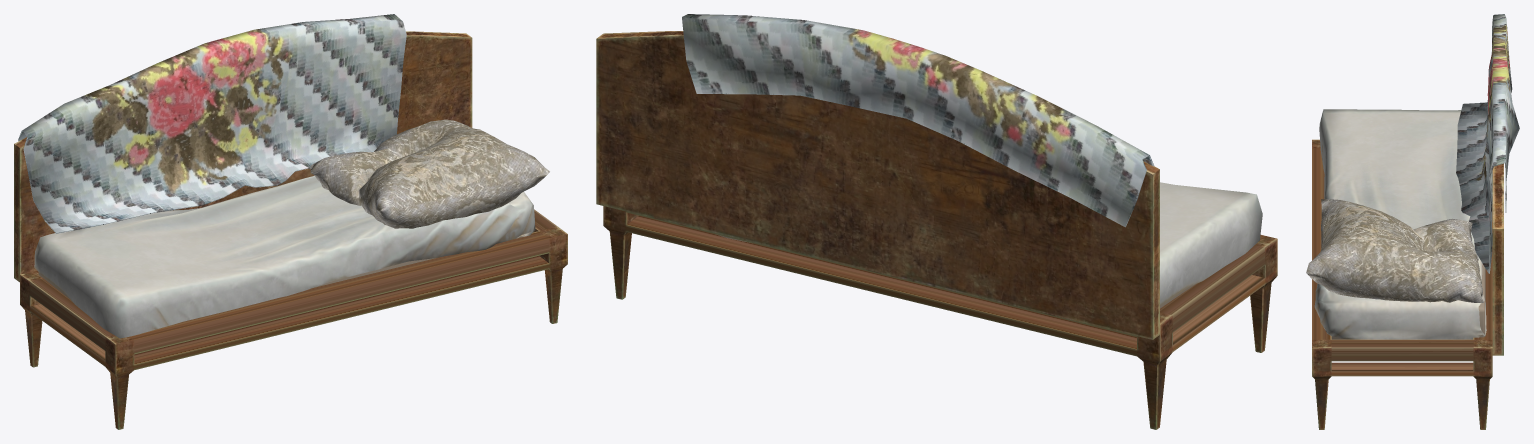
Rendered from vintage_day_bed.glb.
The picture shows the model from 3 angles, left to right: view 1: azimuth 30°, elevation 25°; view 2: azimuth 150°, elevation 25°; view 3: azimuth 270°, elevation 25°; orthographic projection. The views are drawn at different scales.
Parts seen in each view (by area): view 1: vintage_day_bed; view 2: vintage_day_bed; view 3: vintage_day_bed.
Boxes of the visible parts, x1,y1,x2,y2 form: vintage_day_bed: (14, 14, 567, 429); vintage_day_bed: (596, 14, 1277, 429); vintage_day_bed: (1306, 14, 1519, 429).
Bounding box in the file's own units: 1.97 × 1.13 × 0.8547.
1 material, 1 textured.
